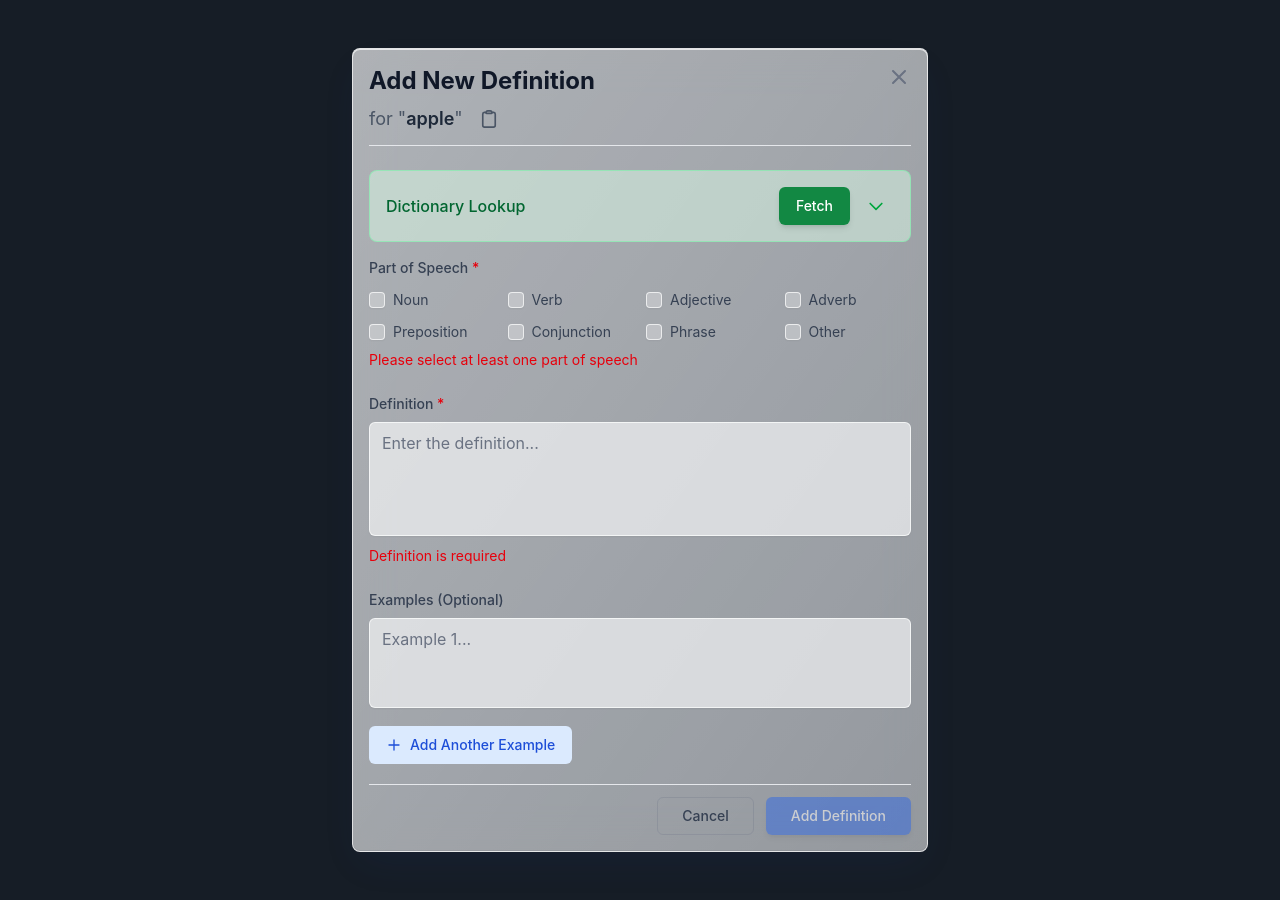
Test case: DefinitionFormModal › fetches dictionary data and applies a definition
Step 1. Click the button "Fetch" → (814, 206), box [779,187,850,225]
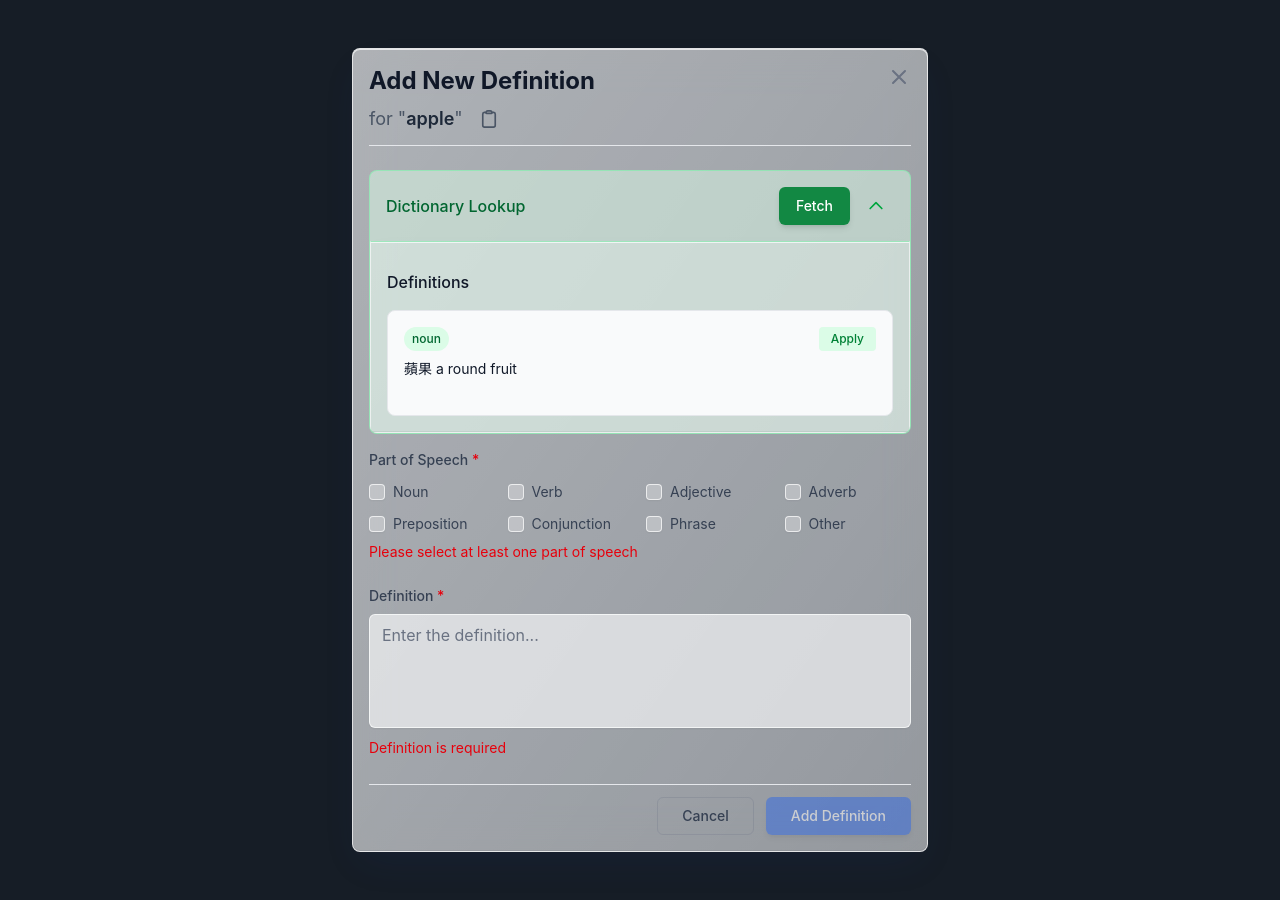
Result: the text "a round fruit" is shown at [436,360,517,377]
Step 2. Click the button "Apply" → (847, 339), box [819,327,876,351]
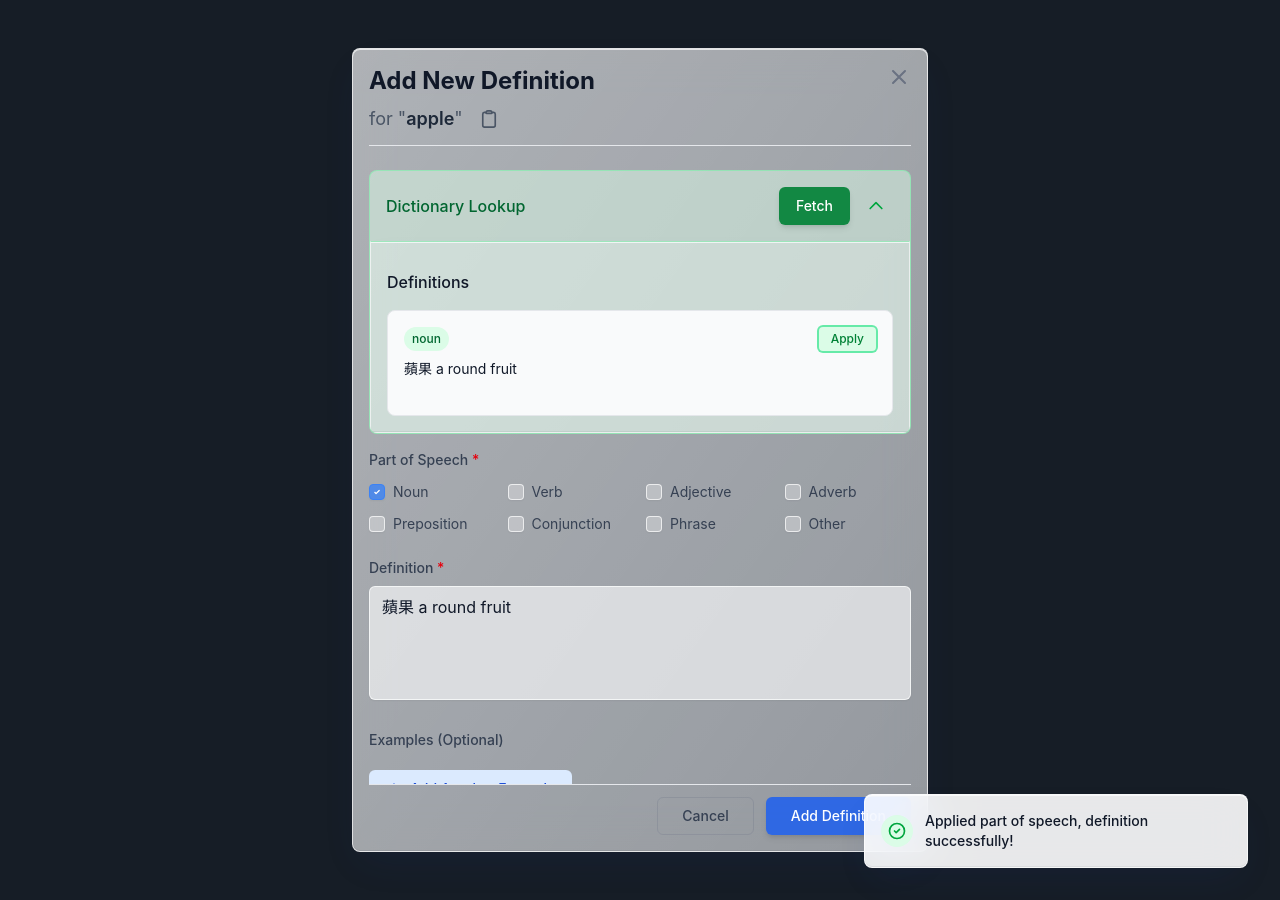
Result: the text box with placeholder "Enter the definition..." holds "蘋果 a round fruit" at [369,586,911,700]
